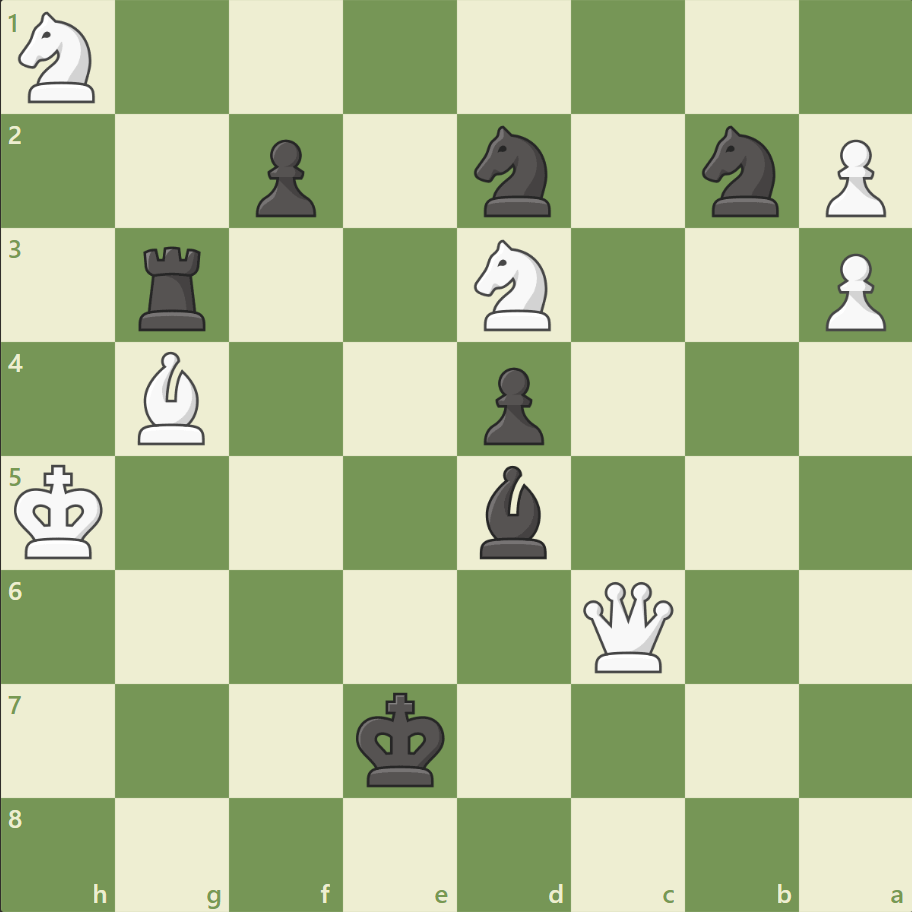B: (131, 347, 215, 449)
K: (11, 458, 111, 566)
N: (465, 234, 562, 337), (11, 7, 108, 110)
P: (815, 246, 889, 337), (815, 132, 889, 223)
Q: (578, 576, 677, 676)
b: (471, 460, 555, 563)
k: (351, 685, 451, 793)
n: (692, 121, 789, 223), (465, 121, 562, 223)
p: (474, 359, 549, 450), (247, 132, 322, 223)
r: (133, 239, 215, 336)
